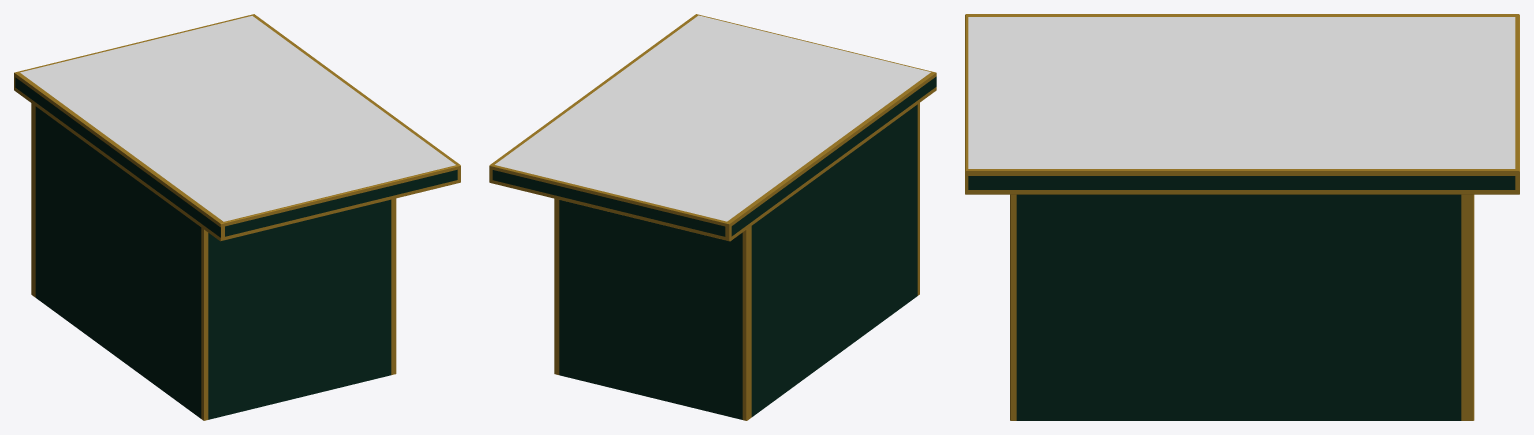
The model's file is PetitPlanTravail_ProjetVR.fbx.
The picture shows the model from 3 angles, left to right: view 1: azimuth 30°, elevation 25°; view 2: azimuth 150°, elevation 25°; view 3: azimuth 270°, elevation 25°; orthographic projection. The views are drawn at different scales.
Visible parts, largest first — view 1: Plan Travail Pour Frigo; view 2: Plan Travail Pour Frigo; view 3: Plan Travail Pour Frigo.
Boxes of the visible parts, <box> form: Plan Travail Pour Frigo: <box>14,14,460,420</box>; Plan Travail Pour Frigo: <box>489,14,936,420</box>; Plan Travail Pour Frigo: <box>965,14,1519,420</box>.
Bounding box in the file's own units: 120 × 100 × 179.
